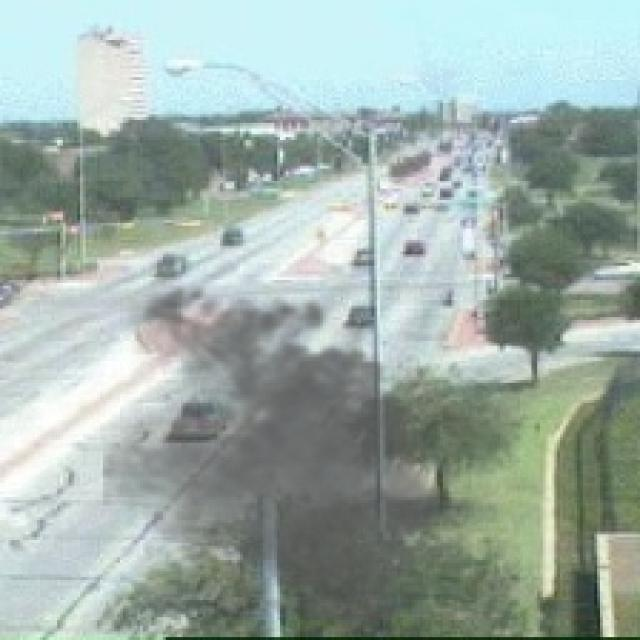smoke: (103, 274, 468, 637)
